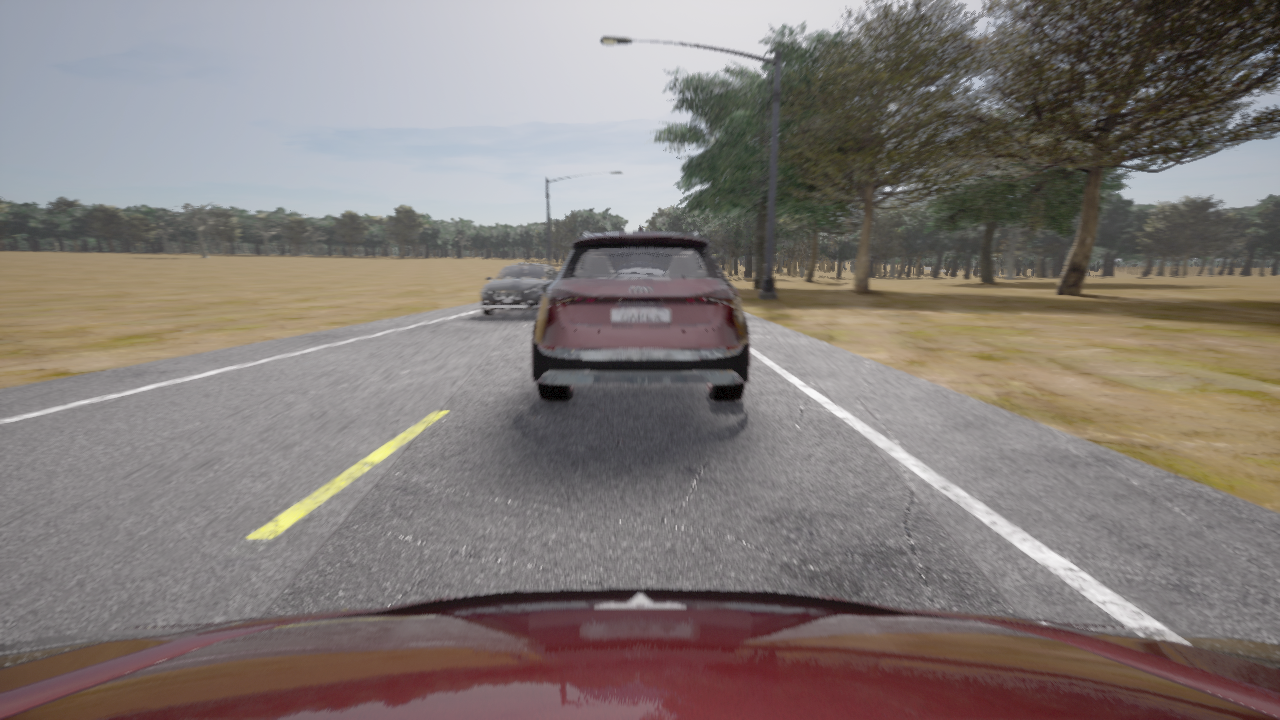cyclist: (0, 588, 1279, 719), (532, 225, 748, 402), (478, 263, 557, 315)
